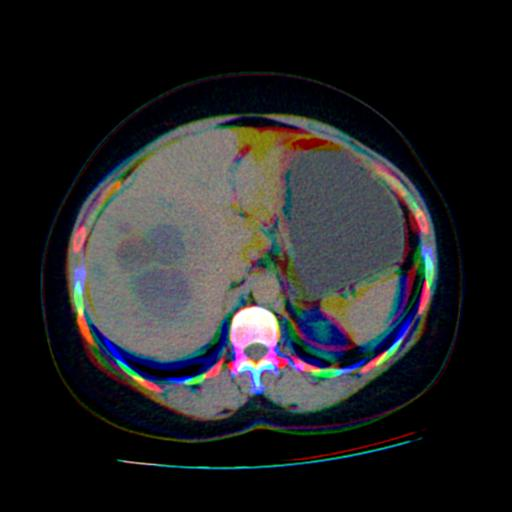Tumor: (117, 222, 190, 317)
